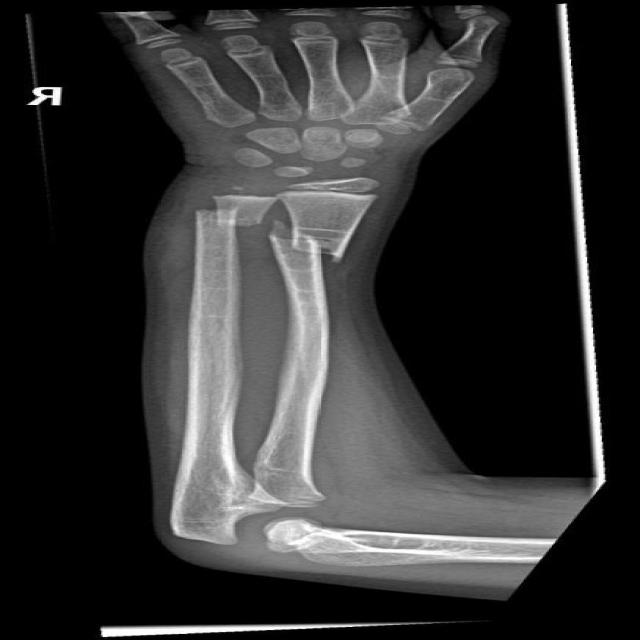Oblique: (257, 224, 364, 284)
Transverse: (164, 185, 263, 231)
